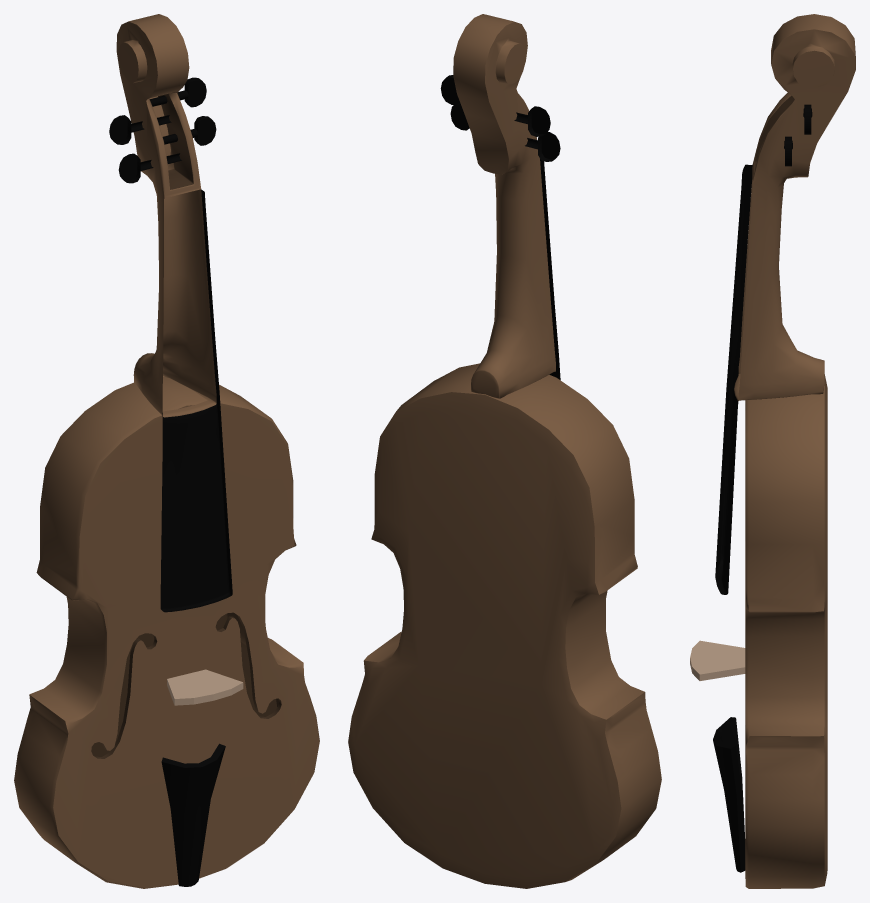
Rendered from violin.glb.
The picture shows the model from 3 angles, left to right: view 1: azimuth 30°, elevation 25°; view 2: azimuth 150°, elevation 25°; view 3: azimuth 270°, elevation 25°; orthographic projection. The views are drawn at different scales.
Parts seen in each view (by area): view 1: Body, Neck, Tailpiece, Peg, Bridge; view 2: Body, Neck, Peg; view 3: Body, Neck, Tailpiece, Bridge, Peg.
Part boxes in pixels (x1,y1,x2,y2): Body: (14,377,319,888); Neck: (116,14,232,612); Tailpiece: (161,743,225,886); Peg: (109,77,216,183); Bridge: (167,669,243,705); Body: (348,363,661,888); Neck: (453,14,560,398); Peg: (440,75,560,161); Body: (745,374,827,888); Neck: (715,14,855,594); Tailpiece: (713,717,745,872); Bridge: (690,640,745,680); Peg: (784,104,812,166).
Bounding box in the file's own units: 0.216 × 0.6408 × 0.1133.
